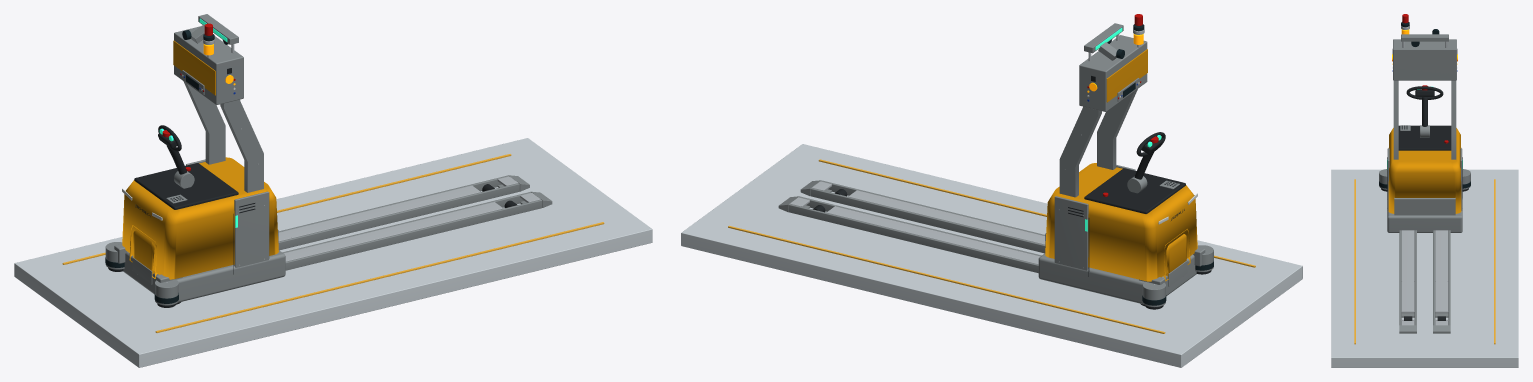
3 views of the same model, side by side, from view 1: azimuth 30°, elevation 25°; view 2: azimuth 150°, elevation 25°; view 3: azimuth 270°, elevation 25° (orthographic). The views are drawn at different scales.
Visible parts, largest first — view 1: Ground plane, ERE curved yellow battery shell, ERE lower structural chassis, ERE long fork outer channel wall, ERE lateral grey access cover, ERE dark top operating console, ERE long fork outer channel wall.002, ERE upper automation enclosure, ERE fork load deck section, ERE folded navigation portal leg, ERE fork load deck section.002, ERE folded navigation portal leg.001 (+6 smaller); view 2: Ground plane, ERE curved yellow battery shell, ERE lower structural chassis, ERE upper automation enclosure, ERE long fork outer channel wall.003, ERE lateral grey access cover.001, ERE dark top operating console, ERE long fork outer channel wall.001, ERE fork load deck section.002, ERE folded navigation portal leg.001, ERE fork load deck section, ERE folded navigation portal leg (+6 smaller); view 3: Ground plane, ERE curved yellow battery shell, ERE upper automation enclosure, ERE lower structural chassis, ERE dark top operating console, ERE fork load deck section, ERE fork load deck section.002, ERE sloping front fork-root shield, ERE folded navigation portal leg, ERE folded navigation portal leg.001, ERE raised transverse status housing, Concept clearance guide (+7 smaller).
Part boxes in pixels (x1,y1,x2,y2): Ground plane: (14, 138, 652, 367); ERE curved yellow battery shell: (122, 157, 278, 279); ERE lower structural chassis: (123, 250, 285, 302); ERE long fork outer channel wall: (285, 199, 542, 270); ERE lateral grey access cover: (234, 191, 269, 267); ERE dark top operating console: (134, 163, 238, 209); ERE long fork outer channel wall.002: (278, 183, 519, 250); ERE upper automation enclosure: (174, 26, 243, 105); ERE fork load deck section: (284, 202, 502, 261); ERE folded navigation portal leg: (220, 99, 263, 192); ERE fork load deck section.002: (278, 185, 480, 241); ERE folded navigation portal leg.001: (183, 81, 225, 164); Ground plane: (681, 144, 1302, 367); ERE curved yellow battery shell: (1045, 163, 1197, 281); ERE lower structural chassis: (1038, 253, 1196, 304); ERE upper automation enclosure: (1079, 35, 1147, 111); ERE long fork outer channel wall.003: (788, 204, 1038, 273); ERE lateral grey access cover.001: (1054, 196, 1088, 270); ERE dark top operating console: (1084, 168, 1185, 213); ERE long fork outer channel wall.001: (810, 188, 1045, 253); ERE fork load deck section.002: (827, 206, 1040, 264); ERE folded navigation portal leg.001: (1059, 106, 1101, 197); ERE fork load deck section: (849, 190, 1045, 244); ERE folded navigation portal leg: (1097, 89, 1137, 169); Ground plane: (1331, 169, 1518, 367); ERE curved yellow battery shell: (1388, 128, 1461, 213); ERE upper automation enclosure: (1393, 39, 1456, 80); ERE lower structural chassis: (1387, 199, 1462, 232); ERE dark top operating console: (1398, 125, 1451, 150); ERE fork load deck section: (1401, 230, 1414, 313); ERE fork load deck section.002: (1435, 230, 1448, 313); ERE sloping front fork-root shield: (1394, 198, 1455, 215); ERE folded navigation portal leg: (1393, 80, 1398, 159); ERE folded navigation portal leg.001: (1451, 80, 1456, 159); ERE raised transverse status housing: (1401, 34, 1448, 41); Concept clearance guide: (1354, 179, 1355, 344).
Size of the model in its own units: 4.67 by 2.41 by 1.97.
